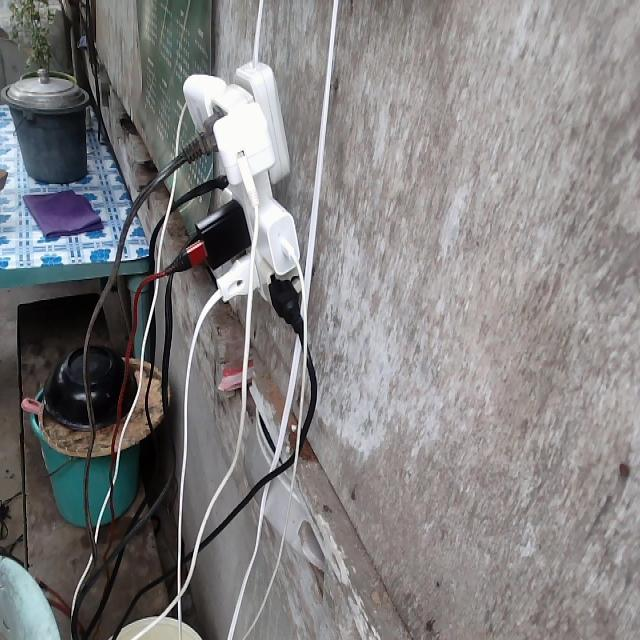-: (167, 59, 306, 336)
